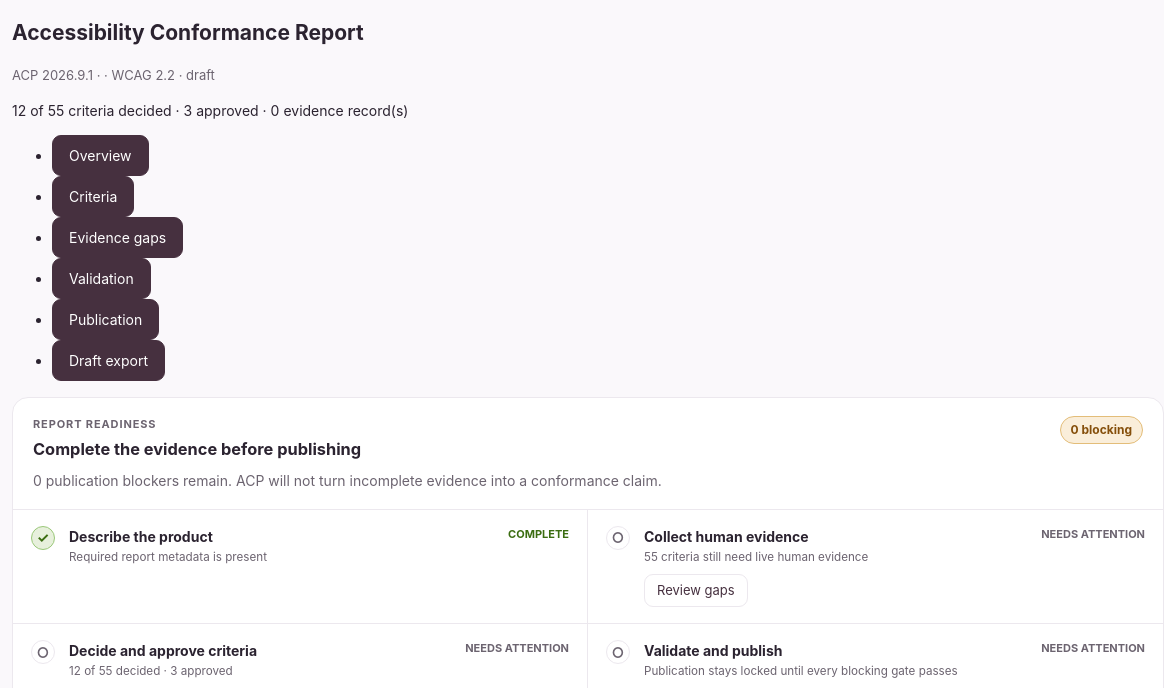
Test: the export accessibility gate › surfaces REVIEW findings and still allows the download
This screenshot has width=1164, height=688.
Click the button "Draft export".
click(108, 360)  # box [52,340,165,381]
(page scrolled)
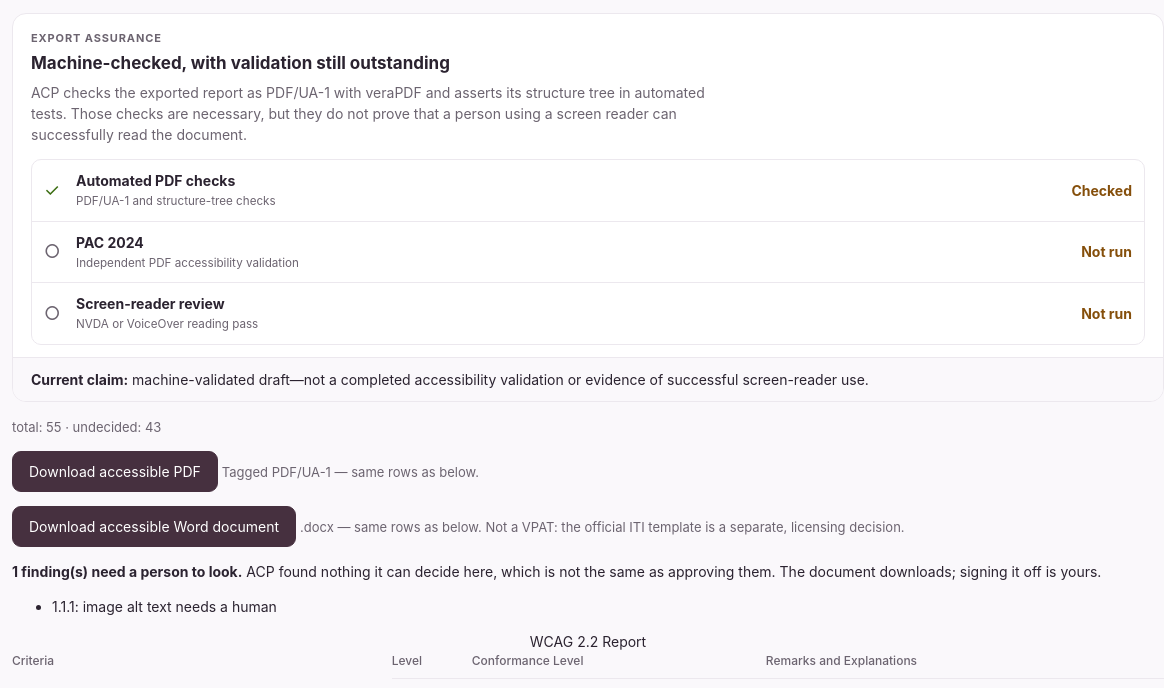
Expected: the text "need a person to look" is shown, [18,563,242,580]
Expected: the text "1.1.1" is shown, [52,598,277,615]
Expected: the text "image alt text needs a human" is shown, [52,598,277,615]
